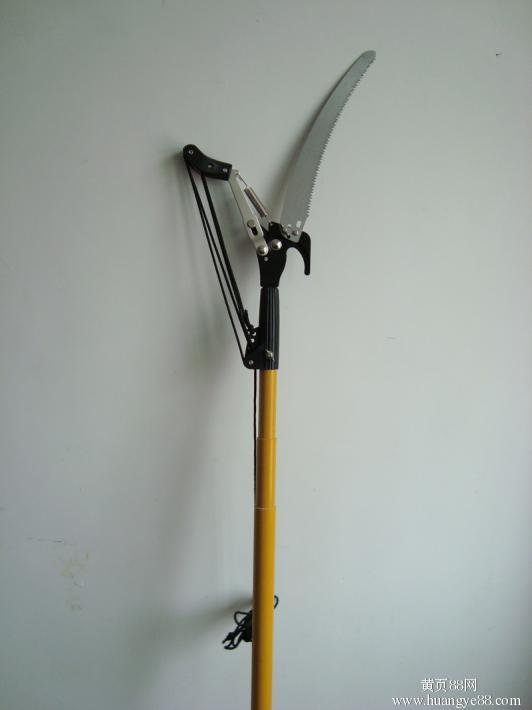scissor: (145, 50, 357, 710)
